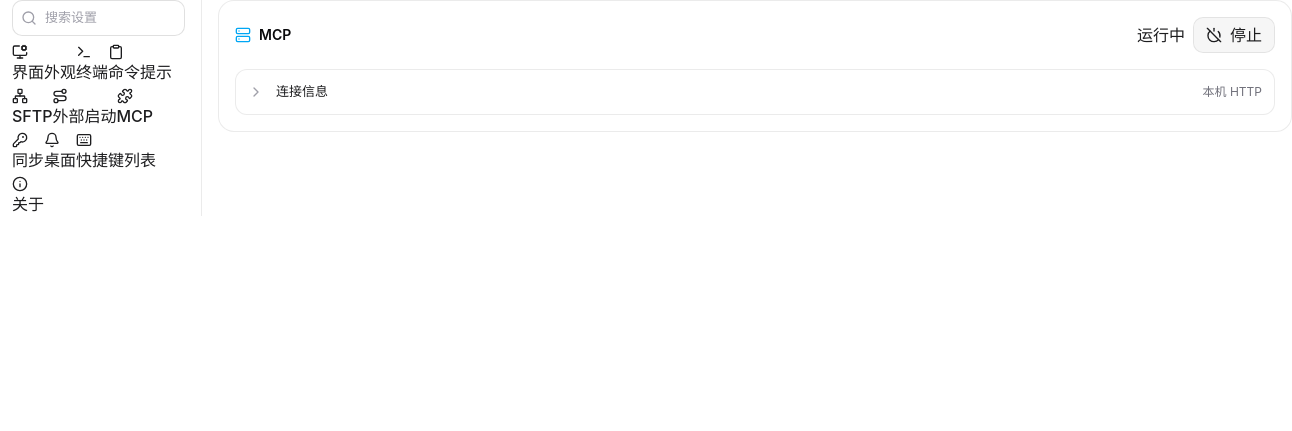
Test case: SettingsToolContent Kerminal MCP Server page › renders only minimal MCP status, endpoint, and controls
The image size is (1292, 431).
Expected: the heading "MCP" is shown, [235,25,291,45]
Expected: the text "运行中" is shown, [1137,23,1185,47]
Click the text "连接信息" at point(302, 91), box [276,83,328,99]
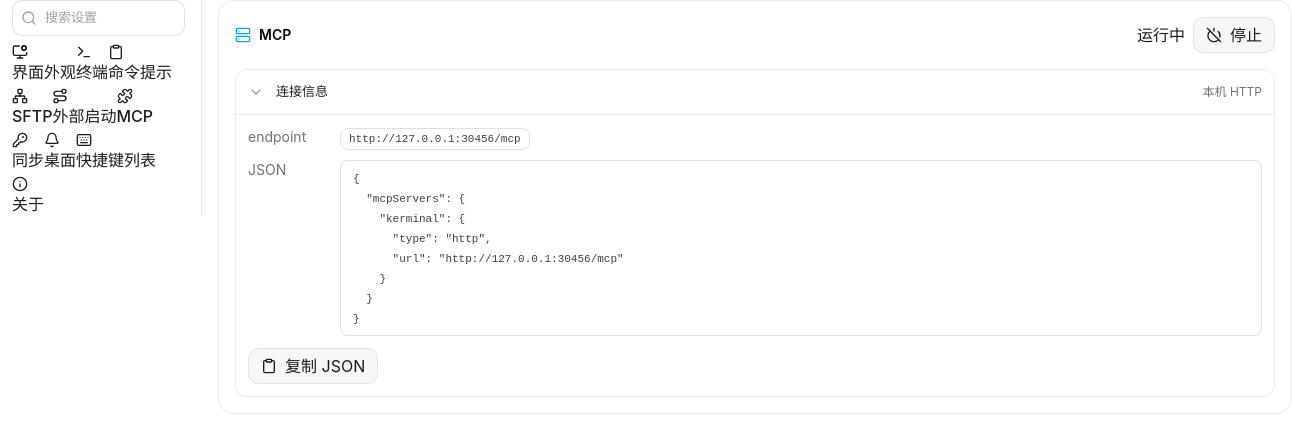
Expected: the text "endpoint" is shown, [248,128,306,145]
Expected: the text "JSON" is shown, [248,161,286,178]
Expected: the text "http://127.0.0.1:30456/mcp" is shown, [340,128,530,150]
